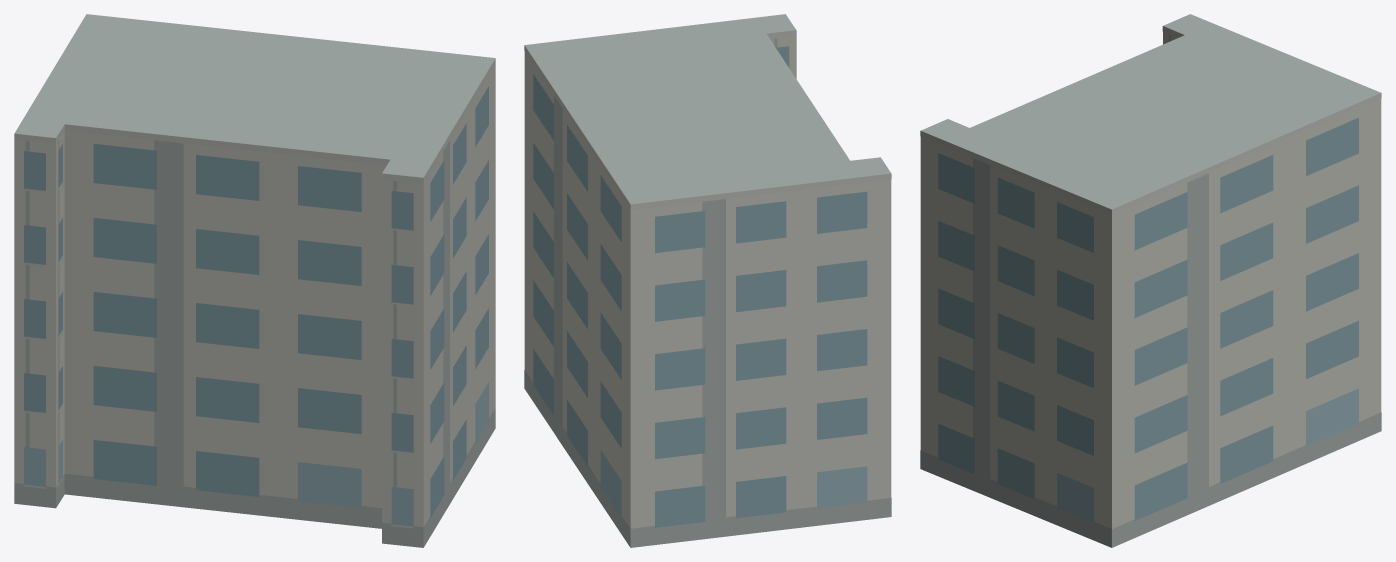
Rendered from survey-upis-32882288.glb.
3 views of the same model, side by side, from view 1: azimuth 30°, elevation 25°; view 2: azimuth 150°, elevation 25°; view 3: azimuth 270°, elevation 25° (orthographic). The views are drawn at different scales.
Visible parts, largest first — view 1: survey-upis-32882288.tmp; view 2: survey-upis-32882288.tmp; view 3: survey-upis-32882288.tmp.
Boxes of the visible parts, left/top/right/bottom form: survey-upis-32882288.tmp: left=14, top=14, right=495, bottom=547; survey-upis-32882288.tmp: left=524, top=14, right=891, bottom=547; survey-upis-32882288.tmp: left=920, top=14, right=1381, bottom=547.
Size of the model in its own units: 17.98 by 14.5 by 17.91.
